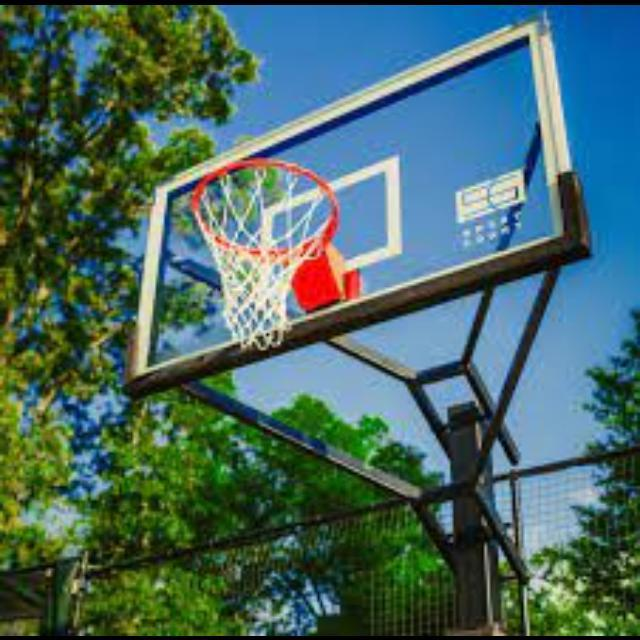rim: (192, 158, 340, 350)
